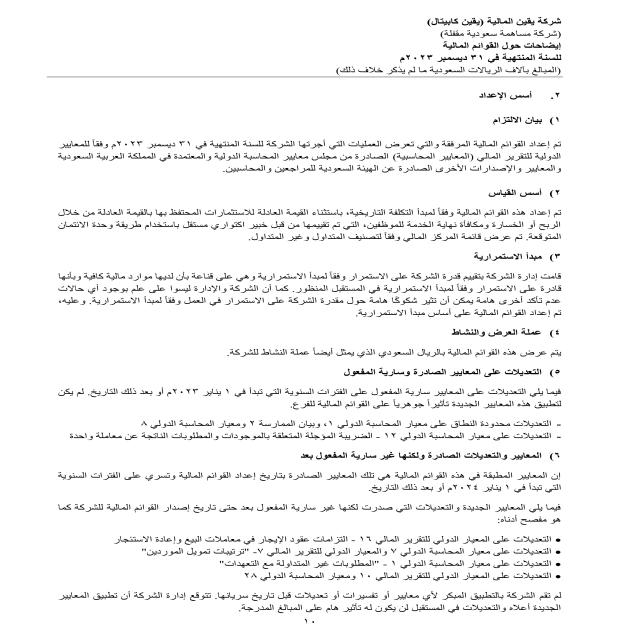notes: (436, 42, 576, 52)
text: (35, 85, 566, 614)
